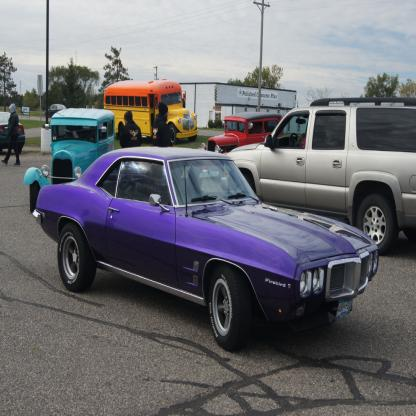Car: (33, 148, 379, 355), (230, 97, 416, 255), (27, 111, 117, 211), (203, 114, 284, 156), (1, 110, 27, 154)
